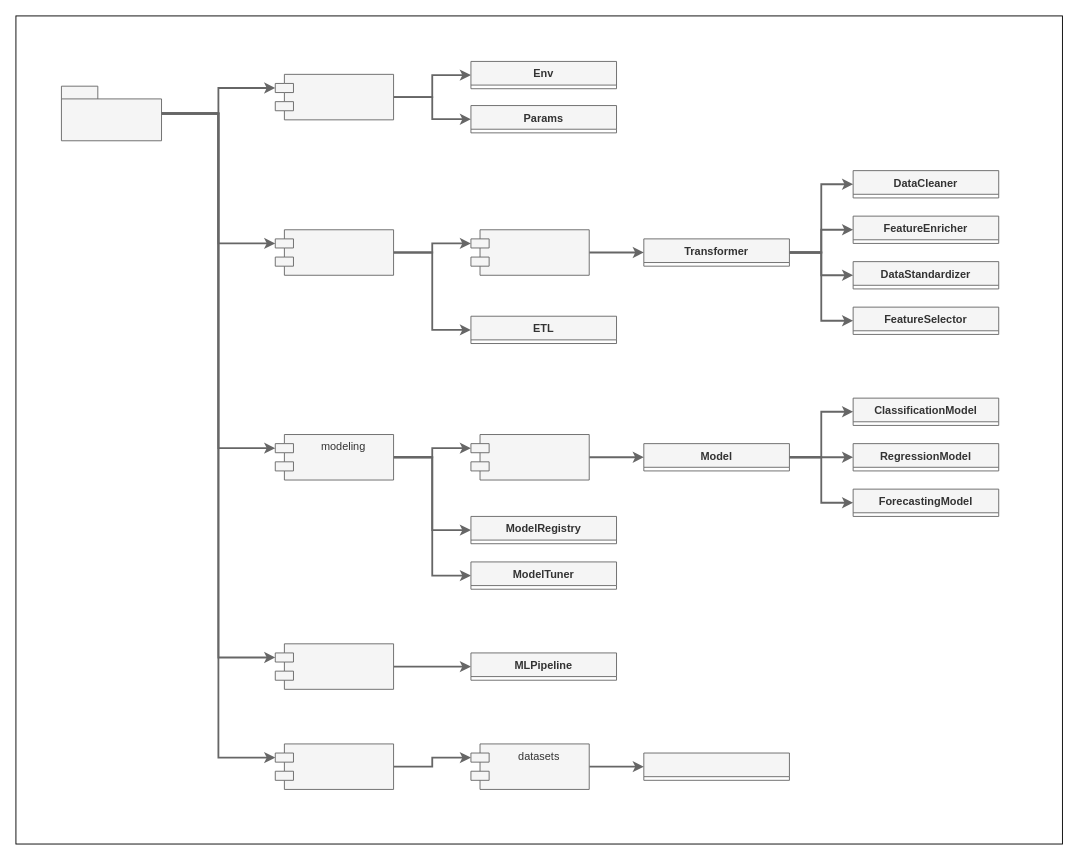
This 1078x860 diagram has some shape labels left out. Here are the shapes that lost their labels. From the top down, the centre of each, then its label:
At point 111,113: "ml_accelerator".
At point 334,96: "config".
At point 334,252: "data_processing".
At point 529,252: "transformers".
At point 529,457: "models".
At point 334,666: "pipeline".
At point 334,766: "utils".
At point 716,766: "DataHelper".
